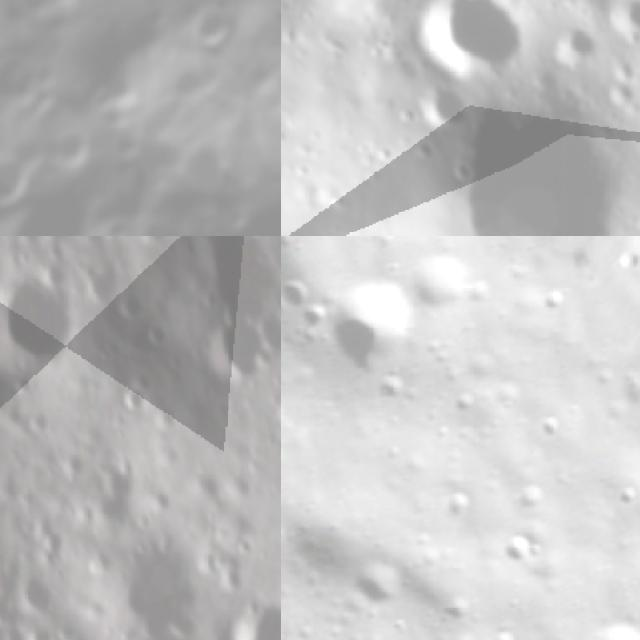crater: (462, 102, 622, 236), (317, 274, 433, 387), (88, 539, 197, 640), (0, 270, 80, 383), (412, 0, 532, 74), (190, 236, 281, 322), (405, 239, 490, 327), (154, 38, 238, 124), (473, 518, 548, 588), (37, 115, 108, 186), (343, 554, 412, 624), (205, 311, 264, 390), (0, 139, 49, 230), (179, 0, 245, 61), (238, 0, 281, 78), (407, 80, 469, 134), (217, 588, 281, 640), (553, 21, 606, 70), (10, 568, 52, 624), (568, 612, 640, 640), (281, 490, 303, 579), (294, 299, 338, 341), (281, 271, 320, 318), (252, 309, 281, 369), (75, 263, 116, 304), (93, 205, 147, 236), (113, 288, 147, 332), (603, 0, 640, 40), (114, 385, 146, 412), (143, 318, 169, 351)
